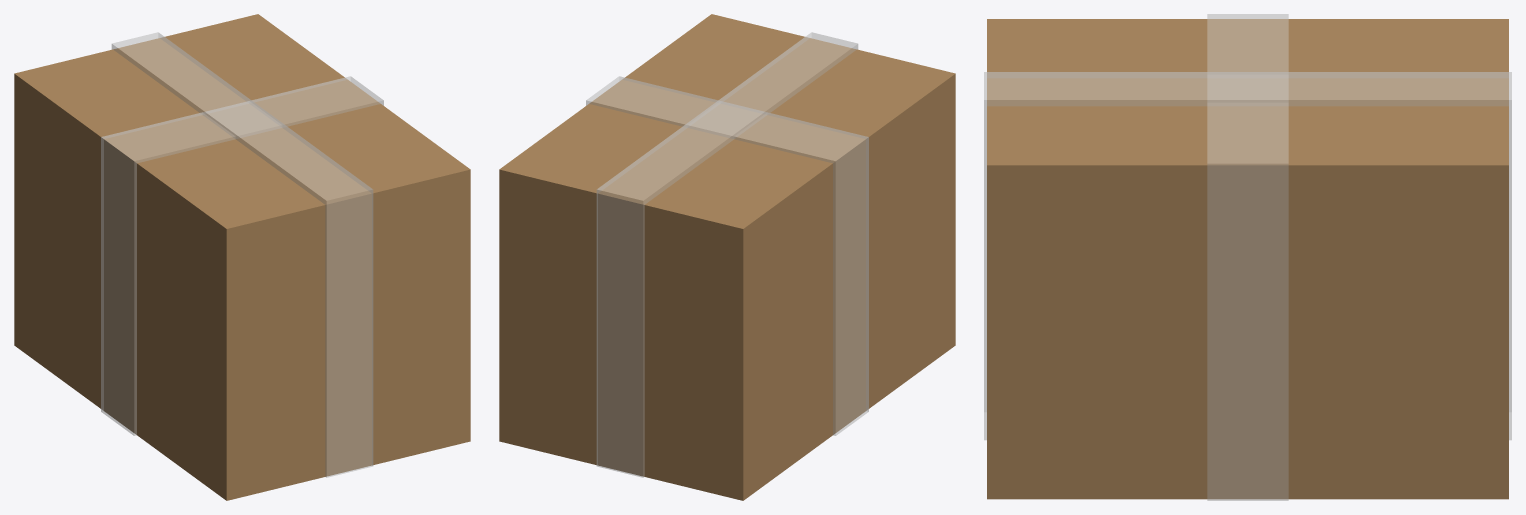
The model's file is paper_box.glb.
The picture shows the model from 3 angles, left to right: view 1: azimuth 30°, elevation 25°; view 2: azimuth 150°, elevation 25°; view 3: azimuth 270°, elevation 25°; orthographic projection. The views are drawn at different scales.
Visible parts, largest first — view 1: paper_box; view 2: paper_box; view 3: paper_box.
Boxes of the visible parts, x1,y1,x2,y2 form: paper_box: (14, 14, 470, 500); paper_box: (499, 14, 955, 500); paper_box: (984, 14, 1511, 500).
Size of the model in its own units: 0.6785 by 0.7192 by 1.01.
